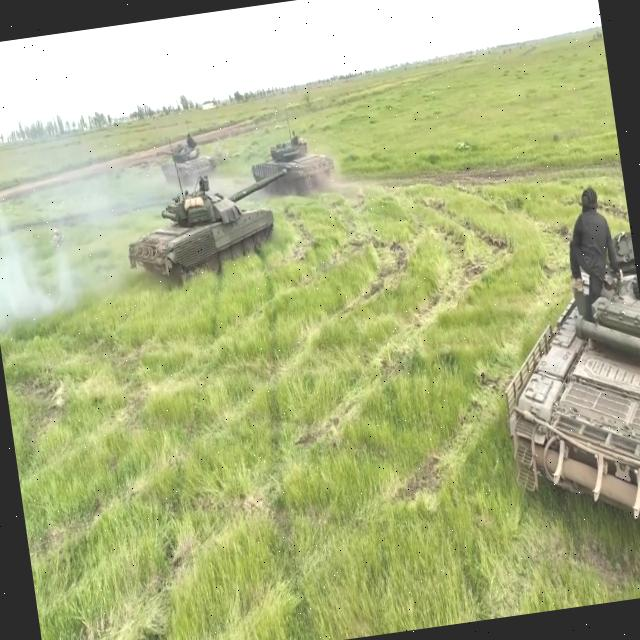MBT: (482, 229, 640, 570), (124, 155, 305, 310), (247, 126, 342, 201), (153, 120, 220, 191)
